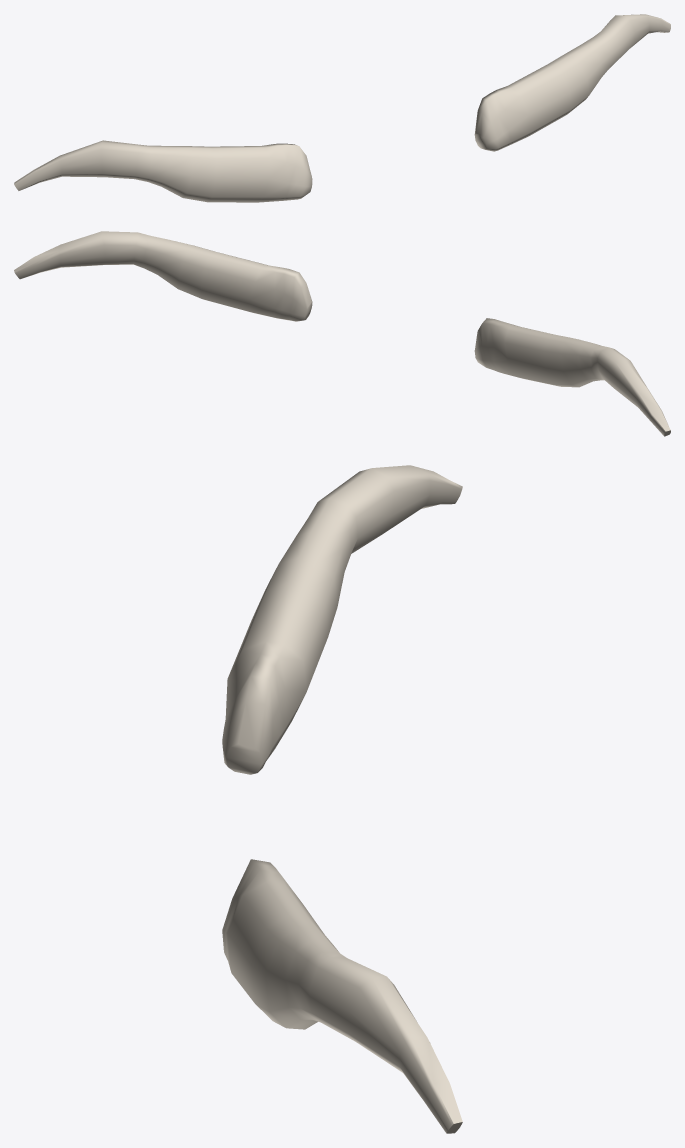
The model's file is Eyebrows_06_07.fbx.
The picture shows the model from 3 angles, top to bottom: view 1: azimuth 30°, elevation 25°; view 2: azimuth 150°, elevation 25°; view 3: azimuth 270°, elevation 25°; orthographic projection. The views are drawn at different scales.
Visible parts, largest first — view 1: Eyebrows_06_07; view 2: Eyebrows_06_07; view 3: Eyebrows_06_07.
Boxes of the visible parts, x1,y1,x2,y2 form: Eyebrows_06_07: (14,14,670,202); Eyebrows_06_07: (14,231,670,436); Eyebrows_06_07: (222,465,462,1133).
Size of the model in its own units: 19.46 by 2.04 by 3.09.
